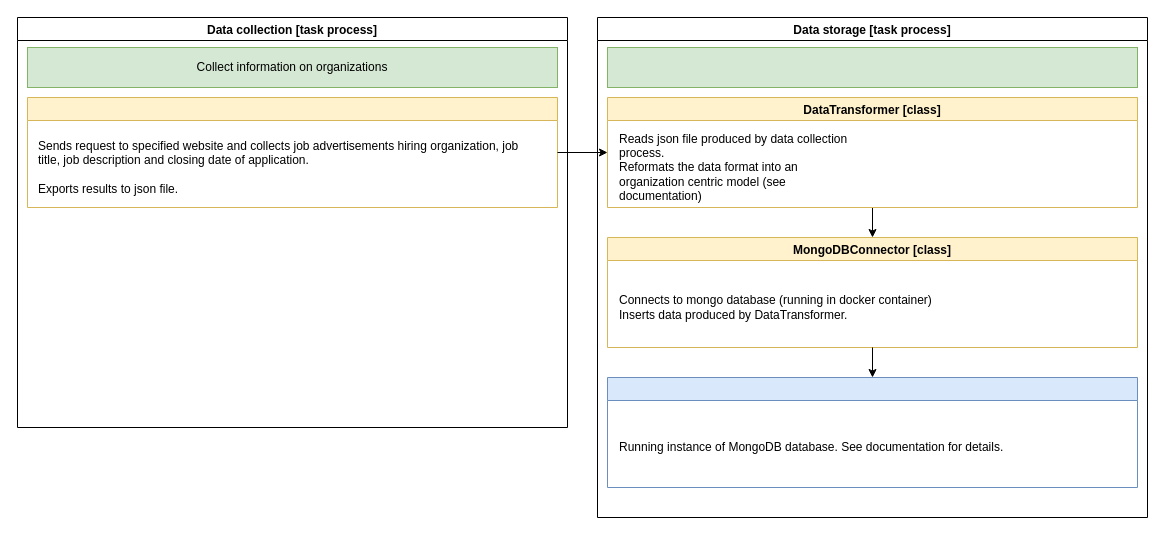
Some shapes in this 1165 by 535 pixel diagram are drawn without their labels. Here are the shapes that lost their labels. From the top down, the box of each, then its label:
(606, 46, 1138, 88): Stores collected information
(26, 96, 558, 208): JobScraper [class]
(606, 376, 1138, 488): MongoDB [docker container]
